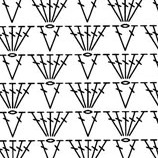enseble_chain: (6, 78, 42, 116), (117, 105, 153, 142), (81, 21, 116, 57), (43, 106, 78, 142), (82, 78, 116, 114), (119, 49, 153, 85), (44, 50, 78, 86), (7, 22, 40, 58), (100, 49, 129, 84), (63, 77, 91, 113), (28, 49, 55, 84), (3, 110, 32, 142), (79, 52, 108, 84), (117, 23, 145, 55), (4, 52, 32, 84), (118, 80, 145, 113), (78, 110, 106, 141), (33, 76, 57, 112), (67, 22, 92, 55), (44, 81, 69, 112), (43, 25, 68, 56), (137, 23, 158, 53), (87, 136, 115, 158), (12, 136, 38, 158), (33, 0, 54, 25), (0, 24, 16, 55), (122, 138, 143, 158), (119, 0, 134, 22), (45, 0, 59, 23), (0, 139, 14, 158)
fan: (64, 22, 92, 56), (111, 52, 131, 81), (1, 25, 20, 53), (2, 82, 20, 111), (65, 137, 86, 158), (42, 53, 58, 80)
